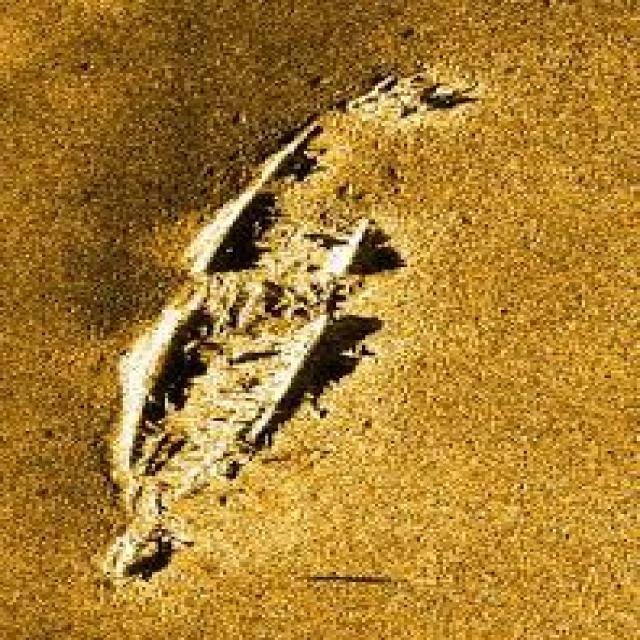shipwreck: (104, 68, 462, 572)
